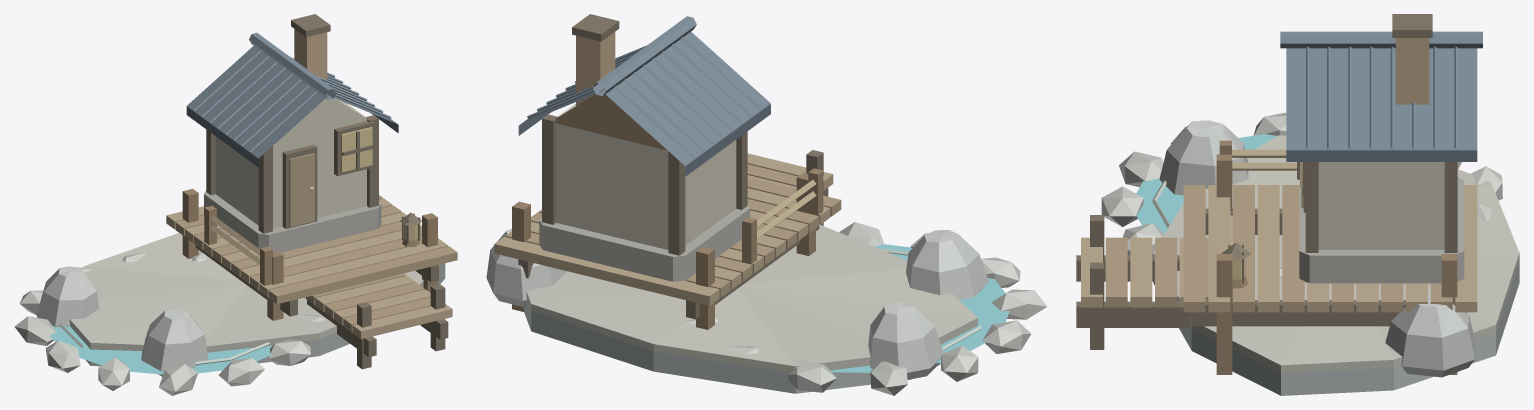
3 renders of one model, left to right at view 1: azimuth 30°, elevation 25°; view 2: azimuth 150°, elevation 25°; view 3: azimuth 270°, elevation 25°, orthographic. The views are drawn at different scales.
Visible parts, largest first — view 1: S17; view 2: S17; view 3: S17.
Boxes of the visible parts, left/top/right/bottom form: S17: left=14, top=14, right=457, bottom=395; S17: left=486, top=14, right=1047, bottom=395; S17: left=1076, top=14, right=1519, bottom=395.
Bounding box in the file's own units: 4.66 × 2.71 × 3.41.
